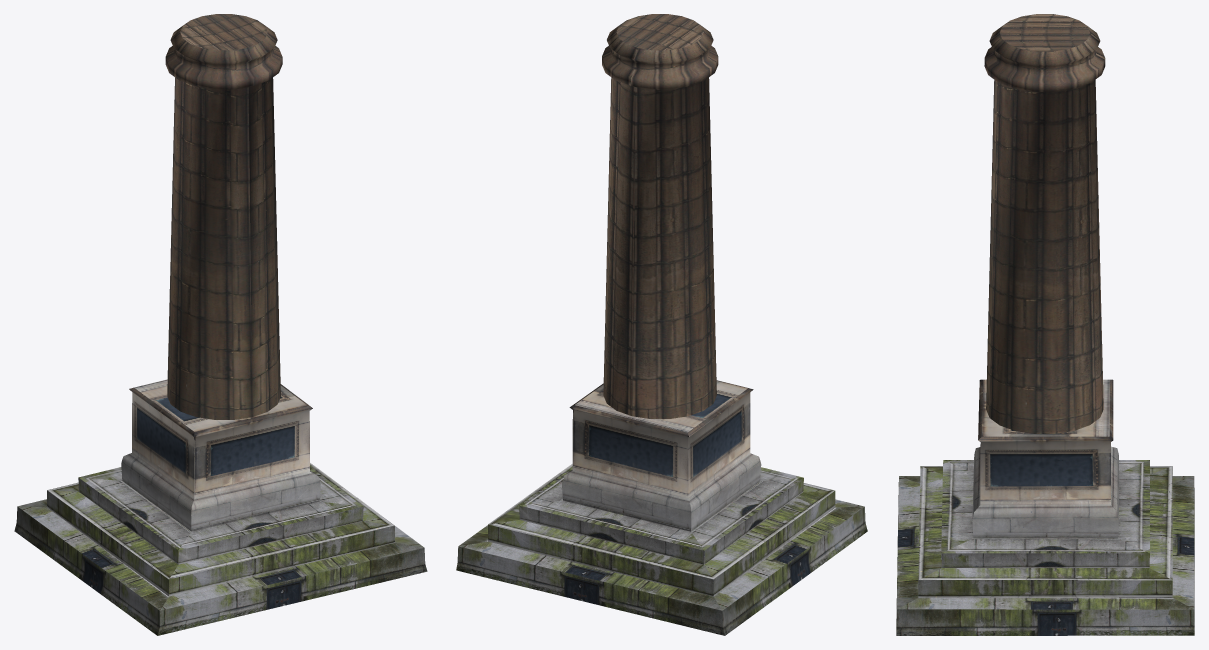
The model's file is monument.obj.
3 views of the same model, side by side, from view 1: azimuth 30°, elevation 25°; view 2: azimuth 150°, elevation 25°; view 3: azimuth 270°, elevation 25° (orthographic). The views are drawn at different scales.
Visible parts, largest first — view 1: monument; view 2: monument; view 3: monument.
Part boxes in pixels (x1,y1,x2,y2): monument: (14,14,427,635); monument: (456,14,867,635); monument: (896,14,1194,635).
Bounding box in the file's own units: 193 × 355 × 179.
1 material, 1 textured.
